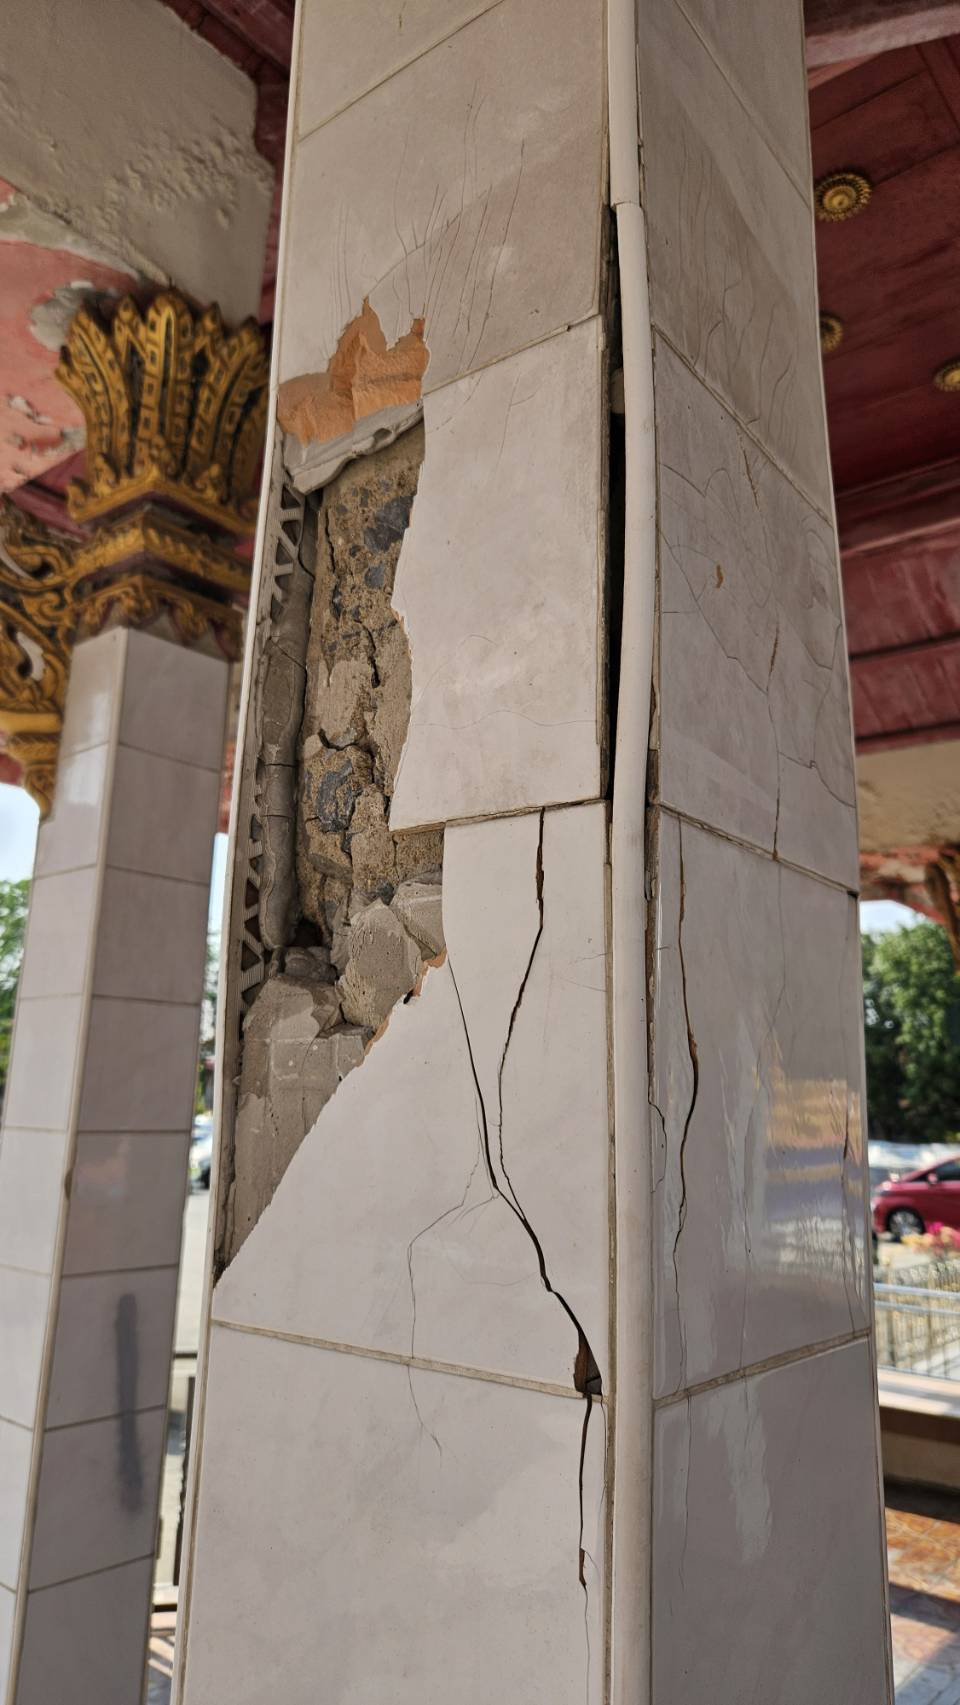High: (215, 207, 706, 1666)
